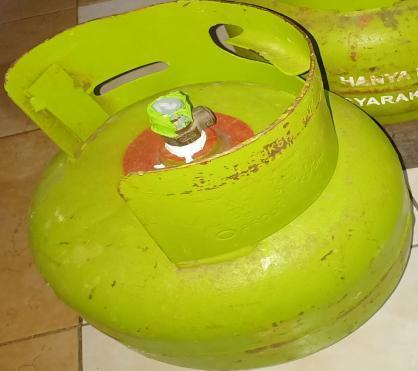cylinder: (1, 0, 418, 371)
